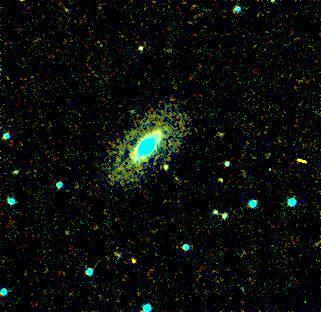star: (153, 116, 183, 146)
